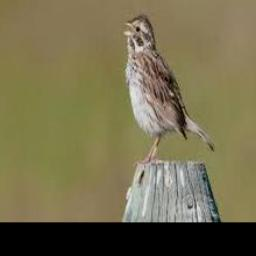Sparrow: (121, 14, 215, 162)
